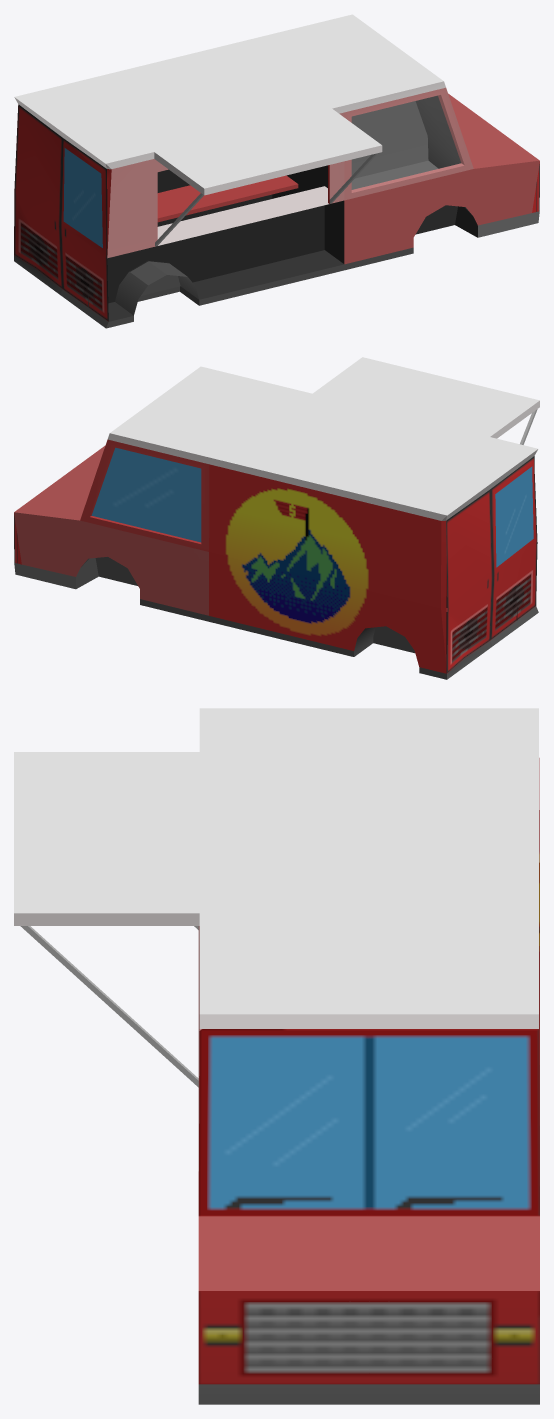
The model's file is FoodTruck.fbx.
3 views of the same model, one above another, from view 1: azimuth 30°, elevation 25°; view 2: azimuth 150°, elevation 25°; view 3: azimuth 270°, elevation 25° (orthographic). The views are drawn at different scales.
Visible parts, largest first — view 1: FoodTruck; view 2: FoodTruck; view 3: FoodTruck.
Boxes of the visible parts, x1,y1,x2,y2 form: FoodTruck: (14,14,539,328); FoodTruck: (14,357,539,679); FoodTruck: (14,708,539,1404).
Size of the model in its own units: 3125 by 1769 by 1132.
Materials: 1 (1 with a texture image).
